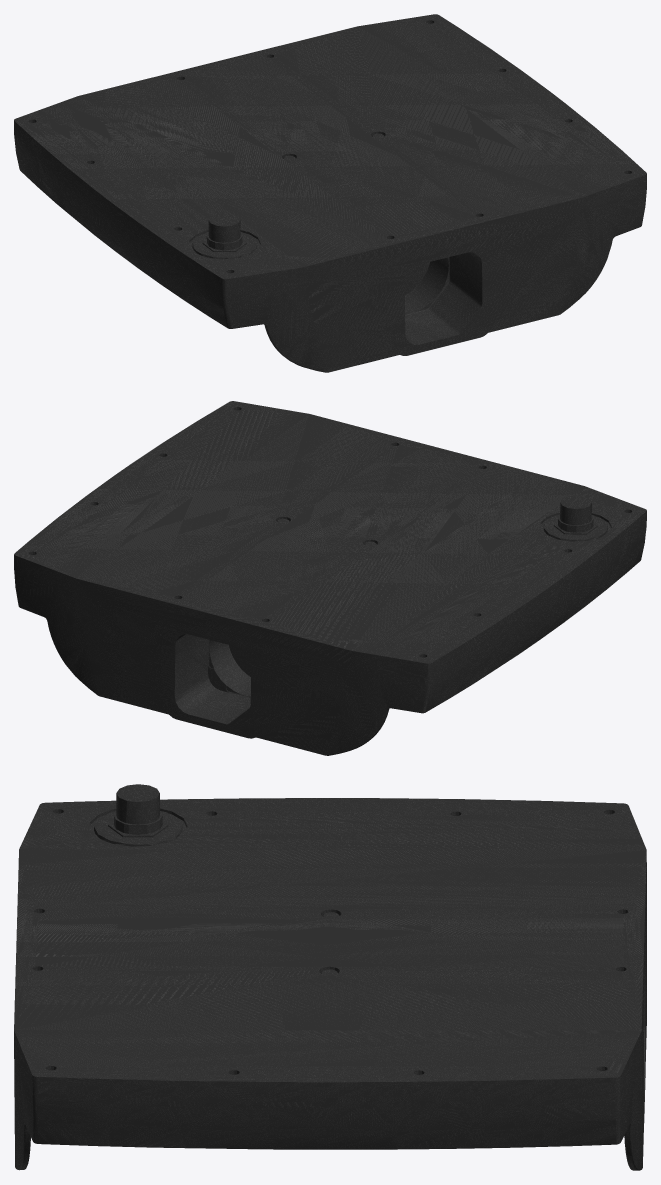
The picture shows the model from 3 angles, top to bottom: view 1: azimuth 30°, elevation 25°; view 2: azimuth 150°, elevation 25°; view 3: azimuth 270°, elevation 25°; orthographic projection. The views are drawn at different scales.
Visible parts, largest first — view 1: SketchUp (×4); view 2: SketchUp (×4); view 3: SketchUp (×4).
Part boxes in pixels (x1=…): SketchUp (×4): x1=14, y1=14, x2=646, y2=372; SketchUp (×4): x1=14, y1=401, x2=646, y2=755; SketchUp (×4): x1=14, y1=784, x2=646, y2=1170.
Bounding box in the file's own units: 15.58 × 14.29 × 4.69.
Materials: 2 (1 with a texture image).
